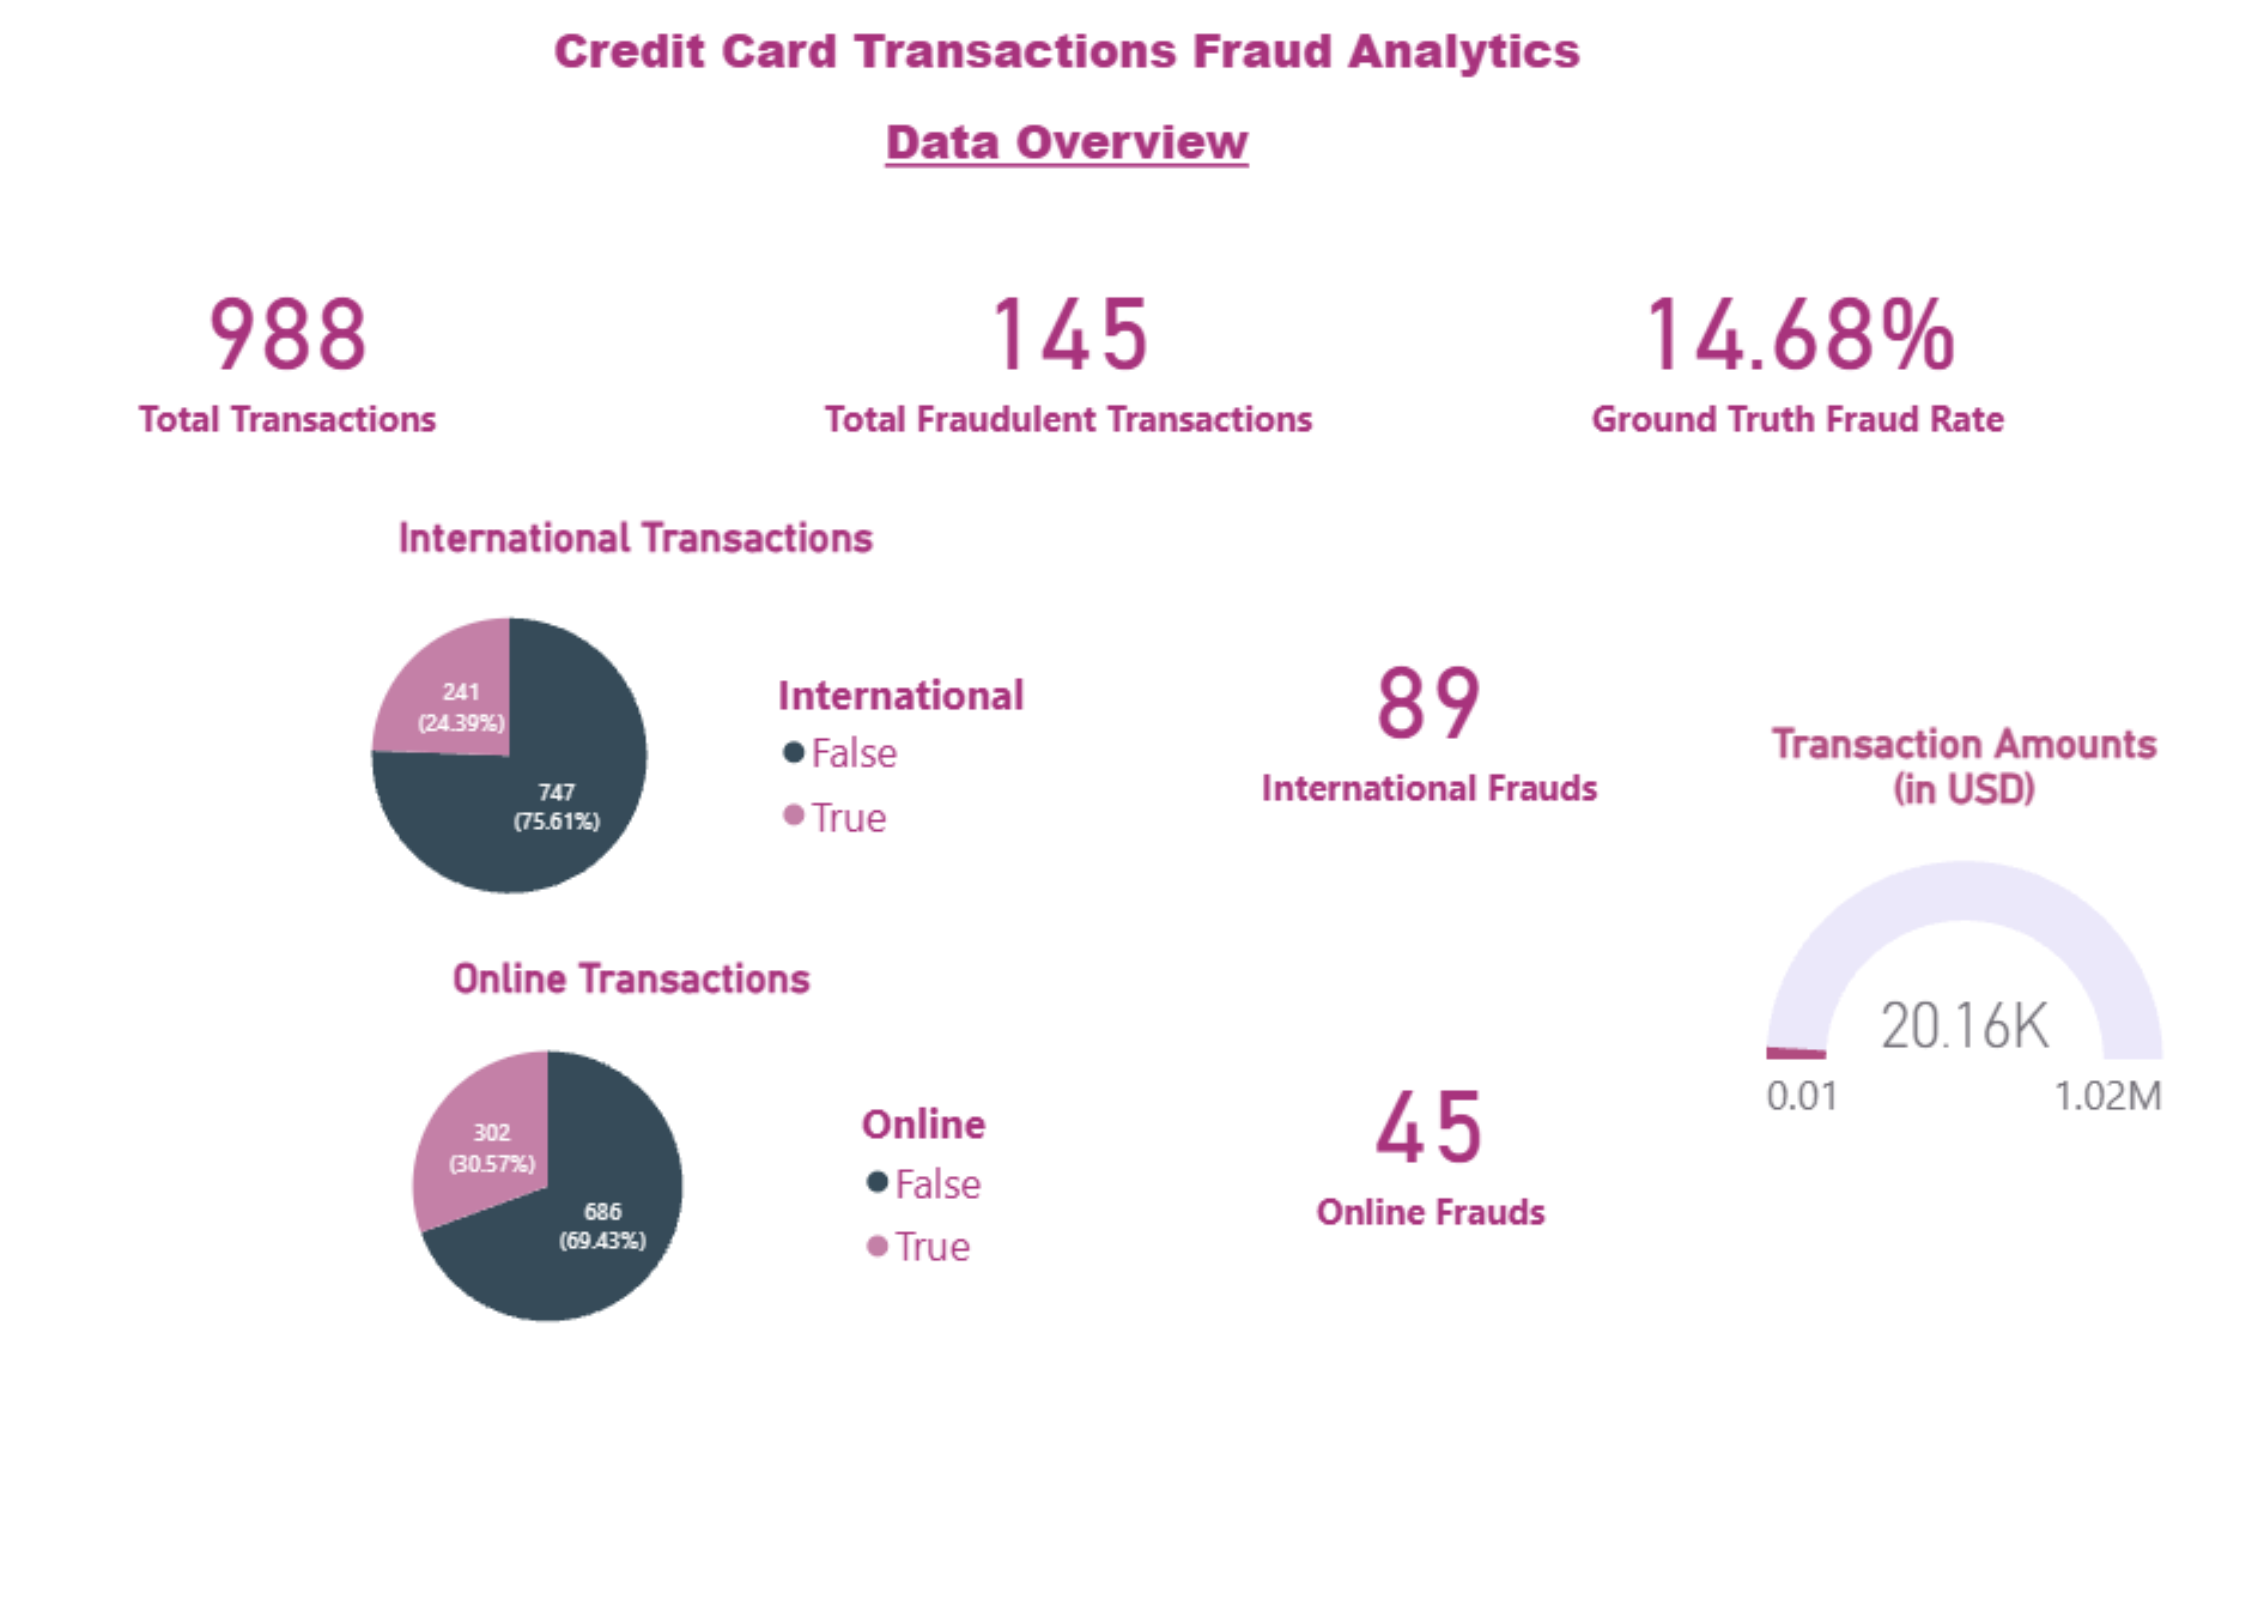

The page's visual inventory and layout, read from the dashboard file:
{"tool":"powerbi","page":{"name":"Overview","canvas":[1280,720],"ordinal":0},"visuals":[{"type":"textbox","box":[293.8,0,690.8,47.7],"z":0},{"type":"textbox","box":[501.5,47.7,275.4,49.2],"z":1000},{"type":"card","fields":{"Values":["Sum(final_credit_card_data.is_fraud)"]},"box":[496.9,96.9,284.6,158.5],"z":2000},{"type":"card","fields":{"Values":["CountNonNull(final_credit_card_data.transaction_datetime)"]},"box":[93.8,96.9,266.2,158.5],"z":3000},{"type":"card","fields":{"Values":["final_credit_card_data.Measure"]},"box":[892.3,96.9,266.2,158.5],"z":4000},{"type":"pieChart","title":"International Transactions","fields":{"Y":["CountNonNull(final_credit_card_data.is_international_Bool)"],"Category":["final_credit_card_data.is_international_Bool"]},"box":[196.9,266.2,427.7,232.3],"z":5000},{"type":"actionButton","box":[0,0,100,40],"z":6000},{"type":"card","fields":{"Values":["Sum(final_credit_card_data.is_international_fraud)"]},"box":[696.9,292.3,266.2,158.5],"z":7000},{"type":"pieChart","title":"Online Transactions","fields":{"Y":["CountNonNull(final_credit_card_data.is_online_bool)"],"Category":["final_credit_card_data.is_online_bool"]},"box":[193.8,498.5,430.8,221.5],"z":8000},{"type":"card","fields":{"Values":["Sum(final_credit_card_data.is_online_fraud)"]},"box":[718.5,498.5,224.6,192.3],"z":9000},{"type":"gauge","title":"Transaction Amounts (in USD)","fields":{"Y":["Avg(final_credit_card_data.transaction_amount)"],"MinValue":["Min(final_credit_card_data.transaction_amount)1"],"MaxValue":["Max(final_credit_card_data.transaction_amount)2"]},"box":[1003.6,375,219.6,244.6],"z":10000}]}

Visuals, with their boxes on the page's 1280x720 design canvas (x1, y1, x2, y2). These are canvas units, not pixel positions in the 2266x1624 screenshot, which may show the page scaled, cropped or inside an application window:
textbox: l=294, t=0, r=985, b=48
textbox: l=502, t=48, r=777, b=97
card - Sum(final_credit_card_data.is_fraud): l=497, t=97, r=782, b=255
card - CountNonNull(final_credit_card_data.transaction_datetime): l=94, t=97, r=360, b=255
card - final_credit_card_data.Measure: l=892, t=97, r=1158, b=255
"International Transactions" pieChart: l=197, t=266, r=625, b=498
actionButton: l=0, t=0, r=100, b=40
card - Sum(final_credit_card_data.is_international_fraud): l=697, t=292, r=963, b=451
"Online Transactions" pieChart: l=194, t=498, r=625, b=720
card - Sum(final_credit_card_data.is_online_fraud): l=718, t=498, r=943, b=691
"Transaction Amounts (in USD)" gauge: l=1004, t=375, r=1223, b=620
